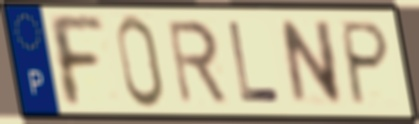0: (113, 12, 167, 111)
F: (43, 12, 108, 110)
L: (226, 20, 283, 106)
N: (278, 17, 346, 109)
P: (339, 19, 393, 109)
R: (164, 17, 231, 106)
